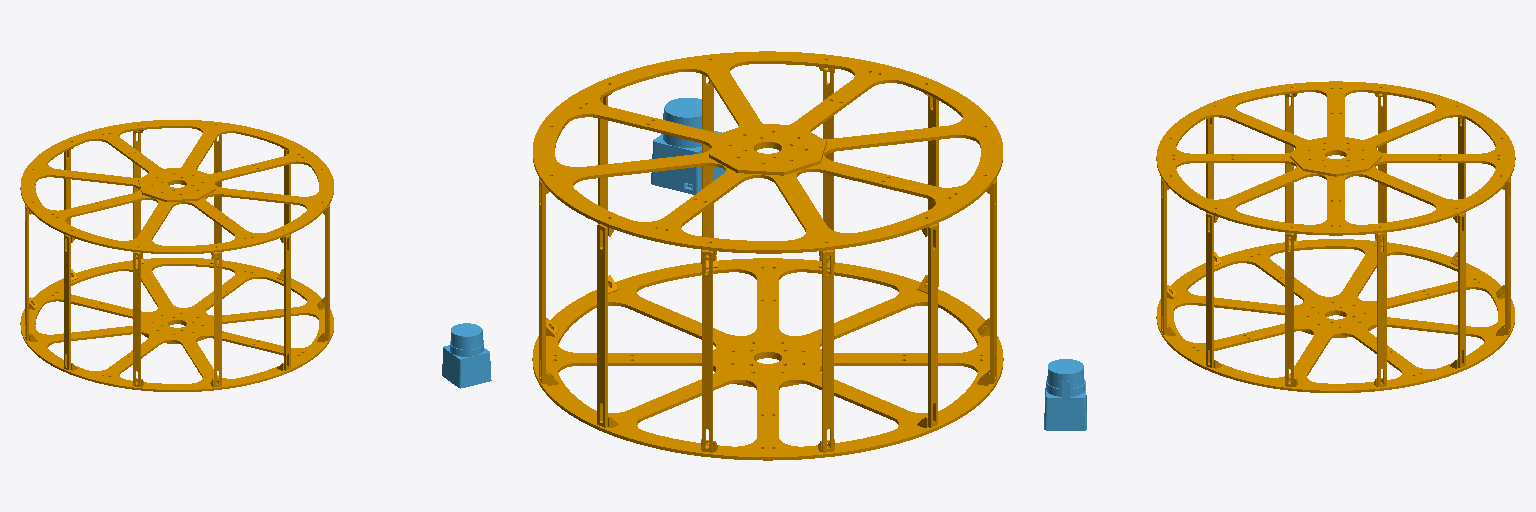
The robot description file, URDF, robot "rollocopter":
<?xml version="1.0"?>
<robot name="rollocopter">

  <link name="rollocopter">	  
	  <visual>
      <origin rpy="0  0 1.5707" xyz="-0.00 -0.00 -0.00"/>
      <geometry>
        <mesh filename="package://bintel_ros/meshes/CylinderV10.STL" scale="0.001 0.001 0.001"/>
      </geometry>     
    </visual>
  </link>
  
  <link name="laser">
	<visual>
      <origin rpy="1.5707  0 3.141592" xyz="-0.03 -0.00 -0.05"/>
      <geometry>
        <mesh filename="package://bintel_ros/meshes/hokuyo_urg04lx.STL" scale="0.001 0.001 0.001"/>
      </geometry>     
    </visual>
  </link>
  
  <joint name="laser_to_bintel" type="fixed">
    <parent link="rollocopter"/>
    <child link="laser"/>
    <origin rpy="0 0 +1.5707" xyz="0.0 0.029 0.044"/>
  </joint>


</robot>

--- What the picture shows (computed from the rendered views, not written in the file) ---
The picture shows the robot from 3 angles, left to right: view 1: azimuth 30°, elevation 25°; view 2: azimuth 150°, elevation 25°; view 3: azimuth 270°, elevation 25°; orthographic projection.
Robot: rollocopter — 2 links, 1 joints (1 fixed); root link rollocopter; default pose: every joint at zero.
Links seen in each view (by area): view 1: rollocopter, laser; view 2: rollocopter, laser; view 3: rollocopter, laser.
Link boxes in pixels (<box>): rollocopter: <box>20,120,333,391</box>; laser: <box>442,323,491,388</box>; rollocopter: <box>532,51,1003,460</box>; laser: <box>651,98,724,194</box>; rollocopter: <box>1156,81,1515,392</box>; laser: <box>1044,359,1086,430</box>.
Size in the robot's own frame: 0.4996 by 0.5509 by 0.2209 metres.
Meshes: 2 distinct files referenced, 2 mesh visuals loaded (2 binary STL).